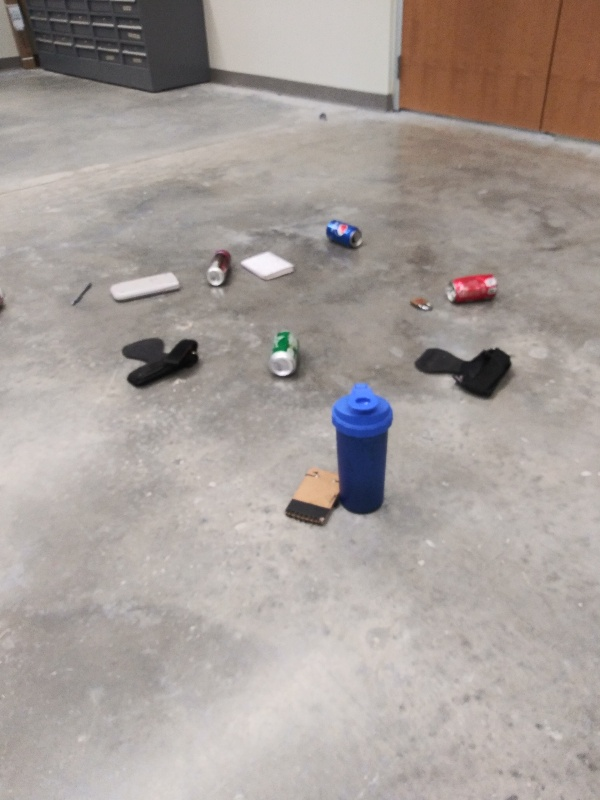can: (443, 269, 504, 308), (265, 328, 302, 380), (204, 243, 238, 291), (321, 217, 369, 251)
